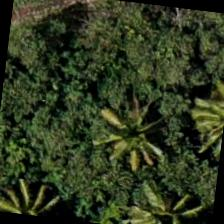Kelapa_Sawit: (88, 86, 188, 186), (116, 168, 214, 223)
